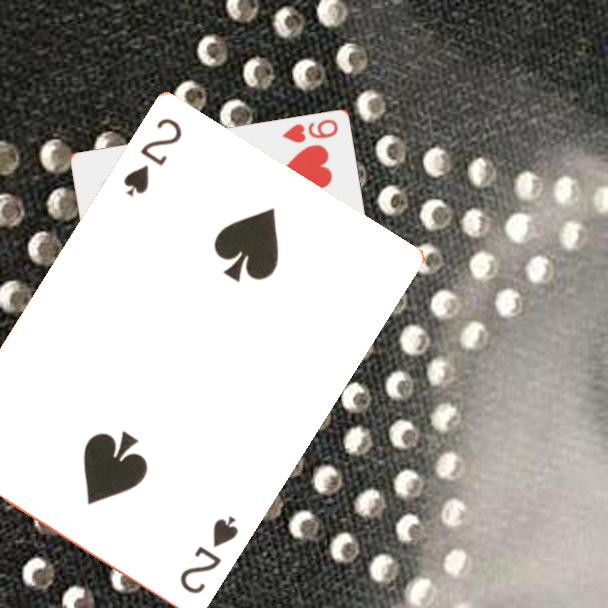h09: (278, 116, 341, 146)
s02: (120, 115, 186, 201), (176, 513, 242, 598)
